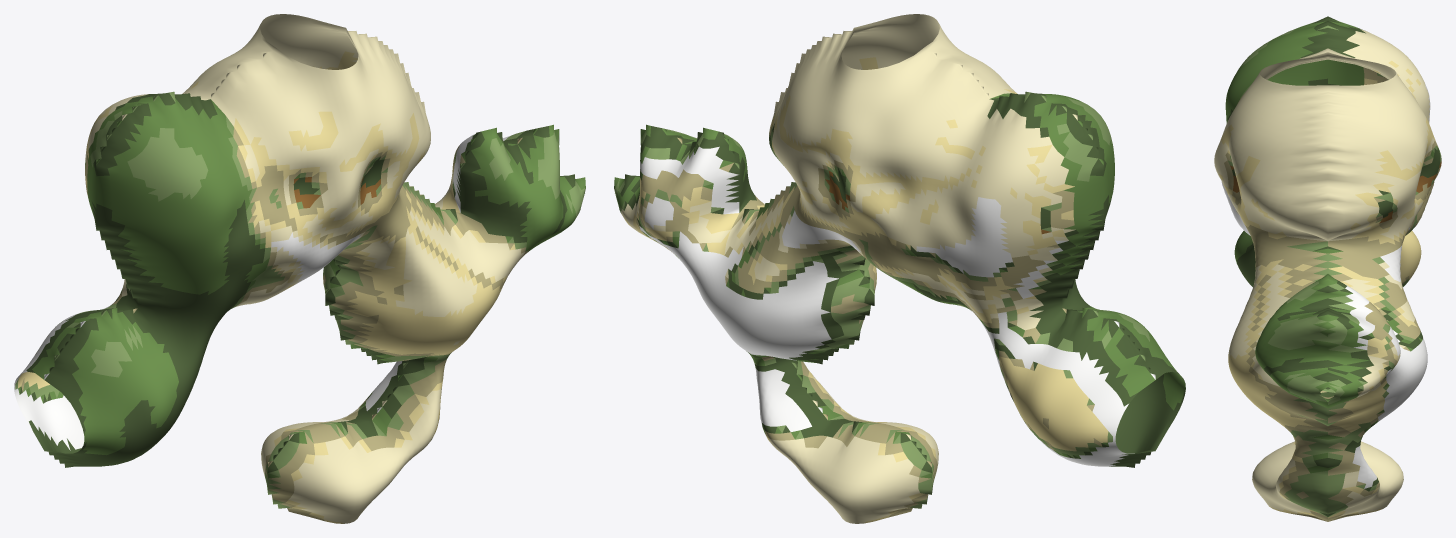
Rendered from saekomassi.glb.
3 views of the same model, side by side, from view 1: azimuth 30°, elevation 25°; view 2: azimuth 150°, elevation 25°; view 3: azimuth 270°, elevation 25° (orthographic). The views are drawn at different scales.
Visible parts, largest first — view 1: saekomassi; view 2: saekomassi; view 3: saekomassi.
Boxes of the visible parts, <box> form: saekomassi: <box>14,14,585,523</box>; saekomassi: <box>614,14,1185,523</box>; saekomassi: <box>1214,16,1441,521</box>.
Bounding box in the file's own units: 1059 × 879 × 415.
